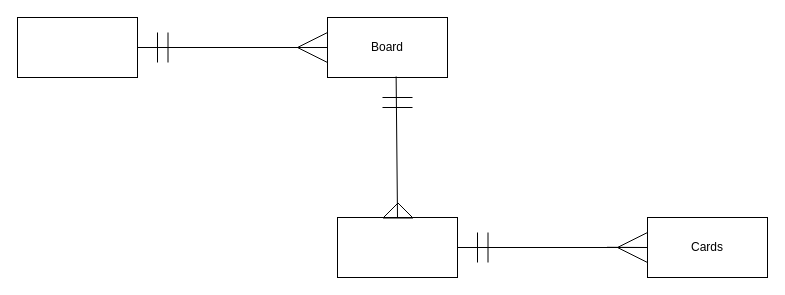
This 785x295 diagram has some shape labels left out. The shapes that lost their labels are listed below. From the top down, each one's centre as x and y in pixels, then its label:
At (x=77, y=47): "Account".
At (x=397, y=247): "List".
